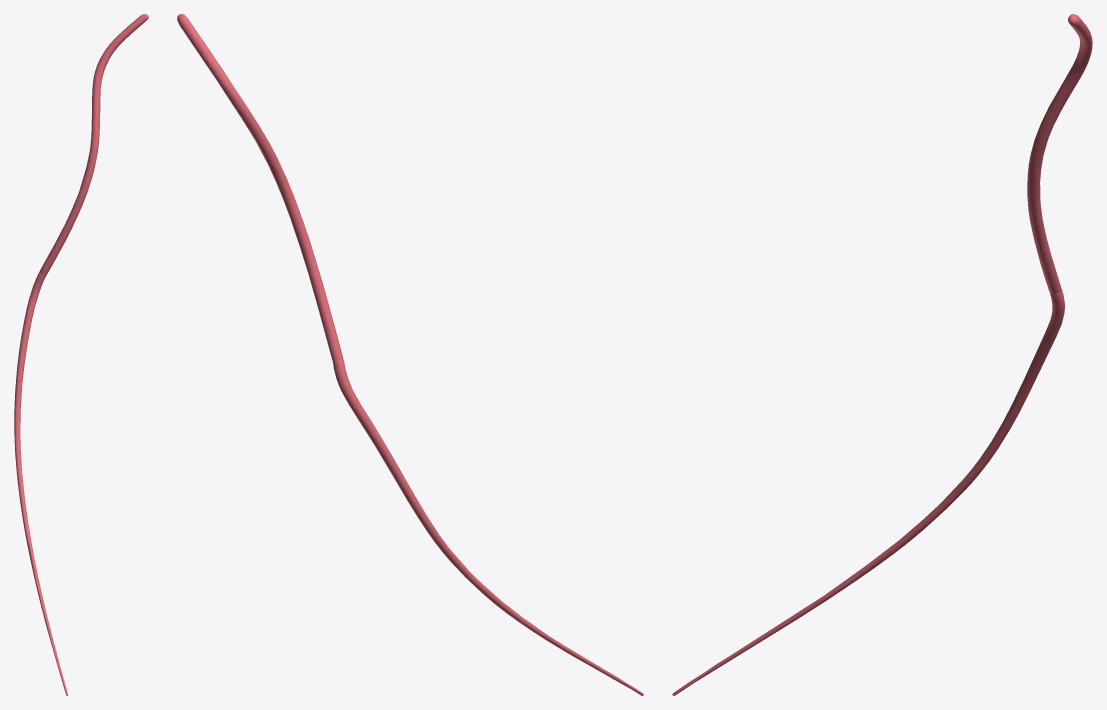
Rendered from fma22777_cx43.glb.
3 views of the same model, side by side, from view 1: azimuth 30°, elevation 25°; view 2: azimuth 150°, elevation 25°; view 3: azimuth 270°, elevation 25° (orthographic). The views are drawn at different scales.
Visible parts, largest first — view 1: FMA22777_CX43; view 2: FMA22777_CX43; view 3: FMA22777_CX43.
Part boxes in pixels (x1,y1,x2,y2): FMA22777_CX43: [14, 14, 148, 695]; FMA22777_CX43: [177, 14, 643, 695]; FMA22777_CX43: [672, 14, 1092, 695].
Size of the model in its own units: 0.0431 by 0.1055 by 0.048.
